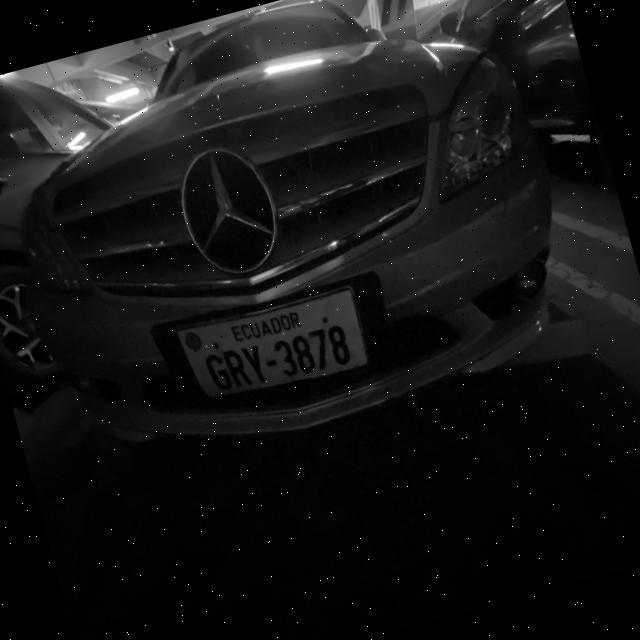Placa: (178, 286, 368, 397)
